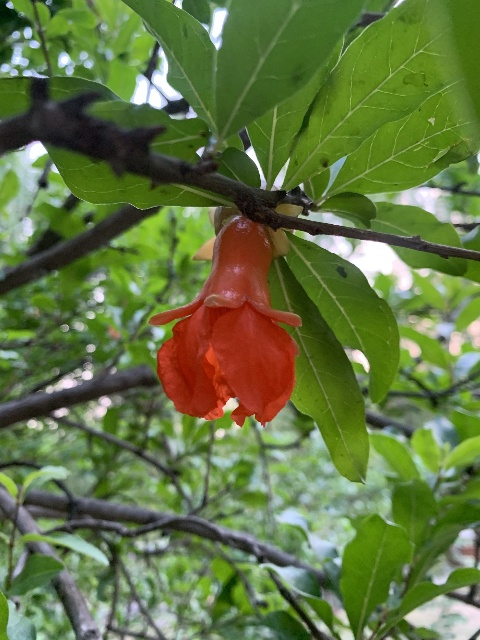flower: (148, 216, 302, 429)
